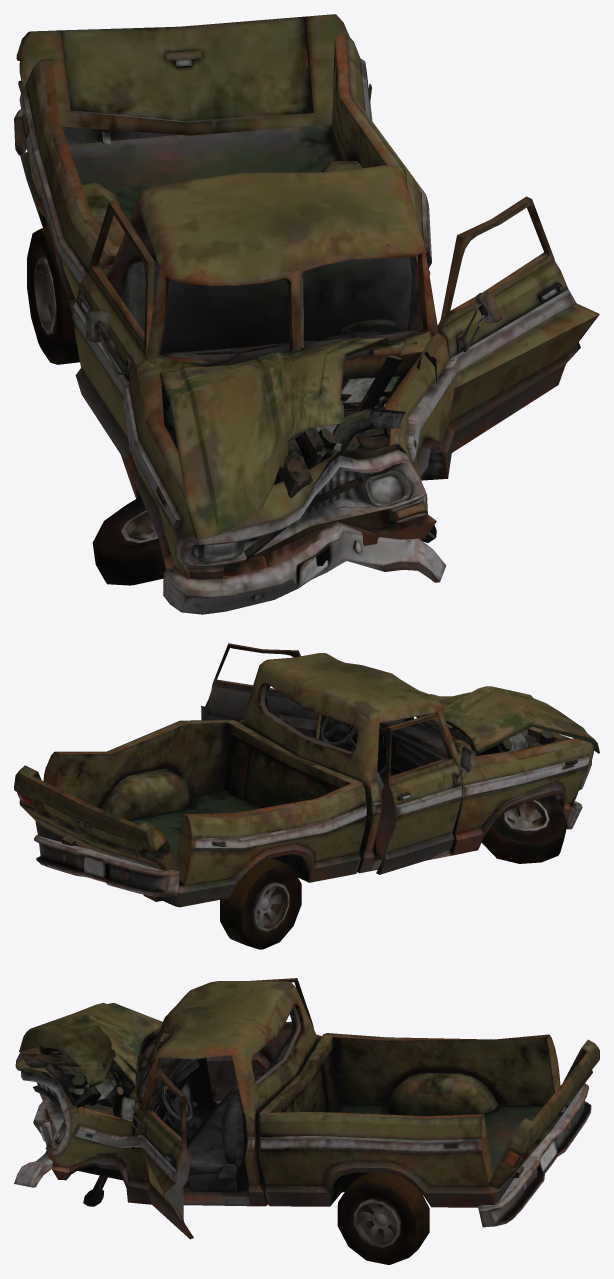
File: car3_pickup_crashed.glb
3 renders of one model, top to bottom at view 1: azimuth 30°, elevation 25°; view 2: azimuth 150°, elevation 25°; view 3: azimuth 270°, elevation 25°, orthographic. The views are drawn at different scales.
Visible parts, largest first — view 1: KUZA_11, BAQAJ DOOR_1, KAPOT_3, QAPI_7, QAPI.001_8, ON-BUFER_5, ENGINE_2, TEKER.004_14, TEKER.003_13, ON-BUFER.001_6; view 2: KUZA_11, QAPI.001_8, BAQAJ DOOR_1, KAPOT_3, TEKER.004_14, TEKER.003_13, ON-BUFER.001_6, QAPI_7, SALON_10, ENGINE_2, ROL_9; view 3: KUZA_11, TEKER.002_12, KAPOT_3, QAPI_7, ON-BUFER.001_6, BAQAJ DOOR_1, ENGINE_2, QAPI.001_8, SALON_10, ON-BUFER_5, ROL_9.
Part boxes in pixels (bbox=[...]): KUZA_11: bbox=[19, 35, 458, 579]; BAQAJ DOOR_1: bbox=[16, 14, 349, 135]; KAPOT_3: bbox=[160, 336, 388, 539]; QAPI_7: bbox=[437, 196, 599, 452]; QAPI.001_8: bbox=[72, 201, 154, 459]; ON-BUFER_5: bbox=[163, 522, 446, 614]; ENGINE_2: bbox=[166, 355, 405, 498]; TEKER.004_14: bbox=[27, 226, 79, 364]; TEKER.003_13: bbox=[92, 496, 166, 585]; ON-BUFER.001_6: bbox=[14, 109, 178, 155]; KUZA_11: bbox=[35, 653, 593, 907]; QAPI.001_8: bbox=[376, 713, 473, 874]; BAQAJ DOOR_1: bbox=[14, 765, 177, 870]; KAPOT_3: bbox=[422, 686, 599, 754]; TEKER.004_14: bbox=[220, 858, 301, 949]; TEKER.003_13: bbox=[481, 795, 567, 863]; ON-BUFER.001_6: bbox=[34, 835, 179, 896]; QAPI_7: bbox=[201, 643, 320, 739]; SALON_10: bbox=[325, 716, 448, 785]; ENGINE_2: bbox=[416, 715, 569, 755]; ROL_9: bbox=[320, 717, 356, 745]; KUZA_11: bbox=[15, 981, 560, 1207]; TEKER.002_12: bbox=[337, 1172, 429, 1264]; KAPOT_3: bbox=[19, 1003, 167, 1087]; QAPI_7: bbox=[120, 1069, 193, 1239]; ON-BUFER.001_6: bbox=[478, 1083, 591, 1227]; BAQAJ DOOR_1: bbox=[489, 1039, 599, 1188]; ENGINE_2: bbox=[21, 1041, 145, 1117]; QAPI.001_8: bbox=[206, 978, 313, 1105]; SALON_10: bbox=[132, 1058, 203, 1149]; ON-BUFER_5: bbox=[14, 1101, 52, 1187]; ROL_9: bbox=[161, 1080, 192, 1121].
Bounding box in the file's own units: 3.84 × 1.91 × 5.4.
Materials: 1 (1 with a texture image).
